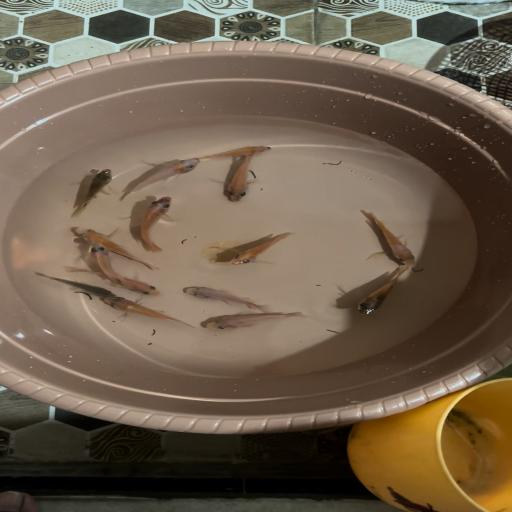nila: (351, 208, 424, 269), (68, 225, 163, 270), (119, 156, 206, 204), (341, 266, 414, 316), (194, 307, 312, 336), (63, 266, 166, 299), (101, 296, 195, 332), (220, 231, 298, 269), (134, 195, 182, 254), (64, 168, 118, 219), (179, 284, 273, 313), (26, 270, 118, 297), (217, 155, 261, 207), (78, 242, 124, 280), (199, 140, 276, 162)
